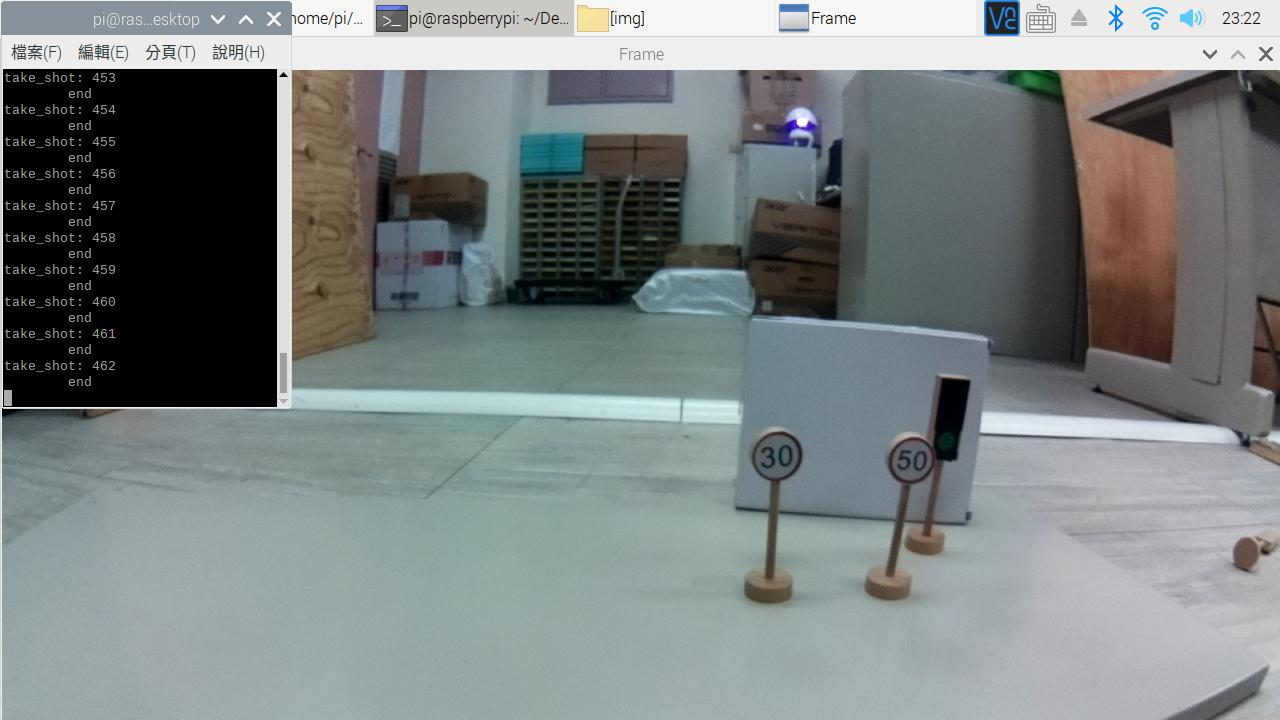Green: (925, 369, 982, 469)
Speed30: (747, 424, 813, 490)
Speed50: (876, 426, 929, 492)
